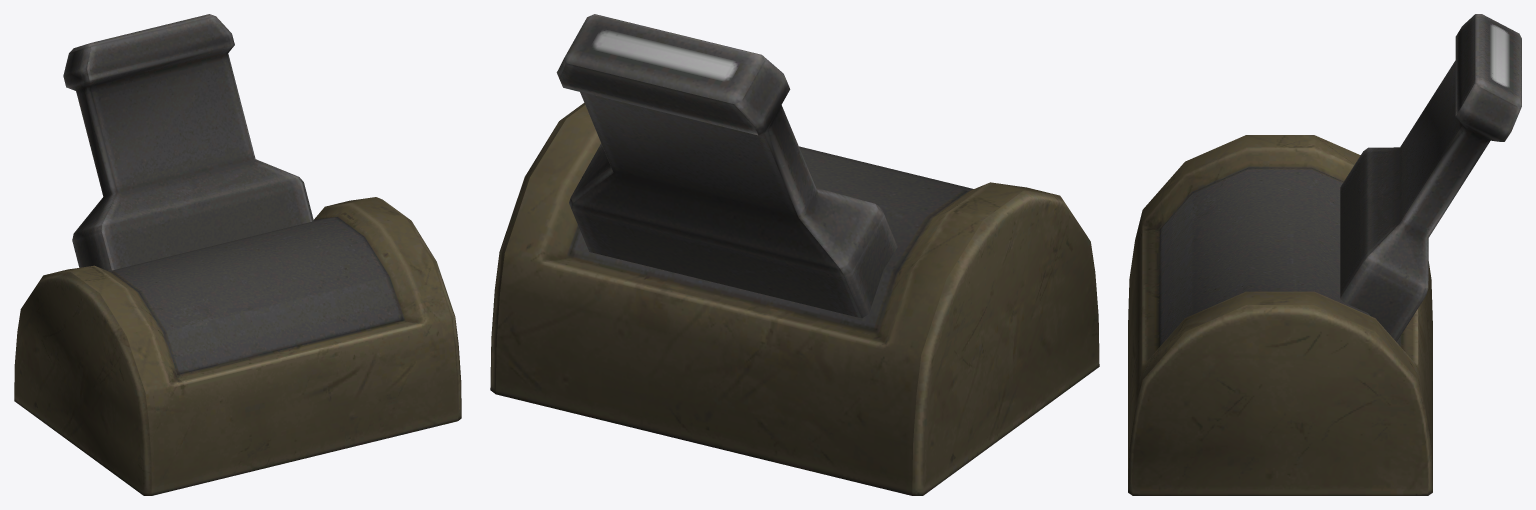
Rendered from switch_small.dae.
3 views of the same model, side by side, from view 1: azimuth 30°, elevation 25°; view 2: azimuth 150°, elevation 25°; view 3: azimuth 270°, elevation 25° (orthographic). The views are drawn at different scales.
Parts seen in each view (by area): view 1: base, lever; view 2: base, lever; view 3: base, lever.
Part boxes in pixels (box(x1,y1,x2,y2)): base: box(14, 197, 461, 495); lever: box(63, 14, 313, 271); base: box(490, 103, 1099, 495); lever: box(556, 14, 897, 318); base: box(1128, 135, 1432, 495); lever: box(1340, 14, 1521, 341).
Bounding box in the file's own units: 0.0942 × 0.0895 × 0.0886.
